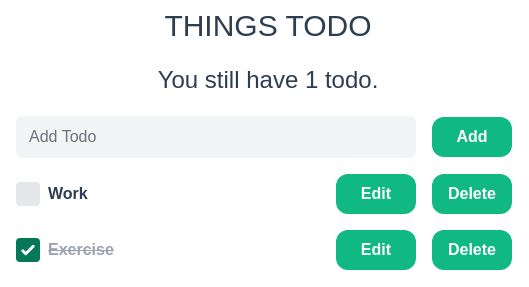
Scenario: TodoList.vue › render todo finish status
This screenshot has width=529, height=287.
Expected: the heading "You still have 1 todo." is shown, x1=158 y1=66 x2=378 y2=93
Click the checkbox labelled "Exercise". click: coordinates (28, 250)
box: x1=16 y1=238 x2=40 y2=262
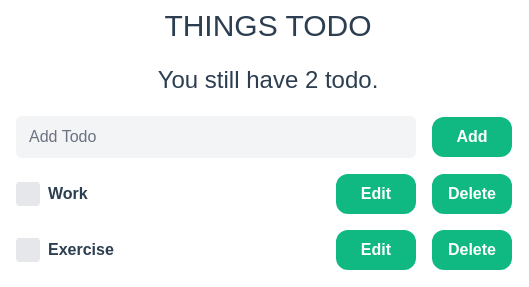
Now the heading "You still have 2 todo." is shown, box x1=158 y1=66 x2=378 y2=93
Click the checkbox labelled "Work". click: coordinates (28, 194)
box: x1=16 y1=182 x2=40 y2=206
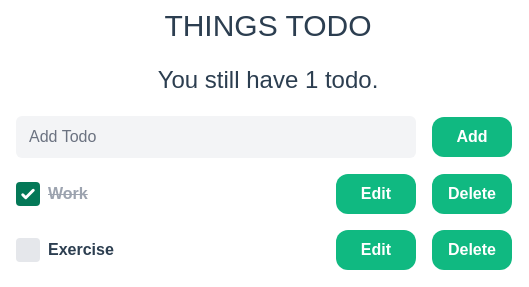
Click the checkbox labelled "Exercise". click: coordinates (28, 250)
box: x1=16 y1=238 x2=40 y2=262
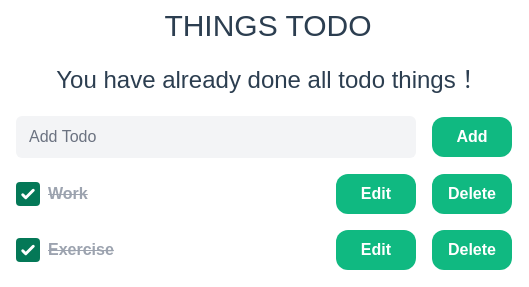
Now the heading "You have already done all todo things！" is shown, box x1=56 y1=66 x2=480 y2=93
